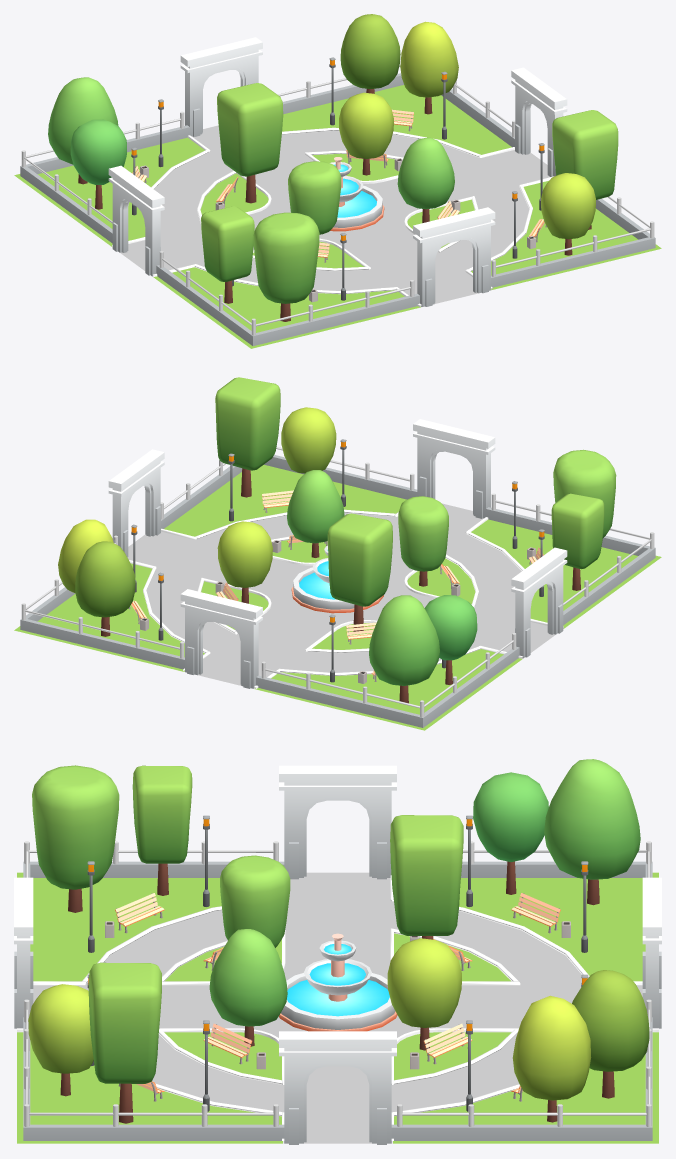
The model's file is Entertainment_Park_03.glb.
3 views of the same model, one above another, from view 1: azimuth 30°, elevation 25°; view 2: azimuth 150°, elevation 25°; view 3: azimuth 270°, elevation 25° (orthographic). The views are drawn at different scales.
Parts seen in each view (by area): view 1: Entertainment_Park_03; view 2: Entertainment_Park_03; view 3: Entertainment_Park_03.
Boxes of the visible parts, <box> form: Entertainment_Park_03: <box>14,14,661,348</box>; Entertainment_Park_03: <box>14,377,661,730</box>; Entertainment_Park_03: <box>14,759,661,1144</box>.
Size of the model in its own units: 30.29 by 7.78 by 30.29.
Materials: 2 (2 with a texture image).
